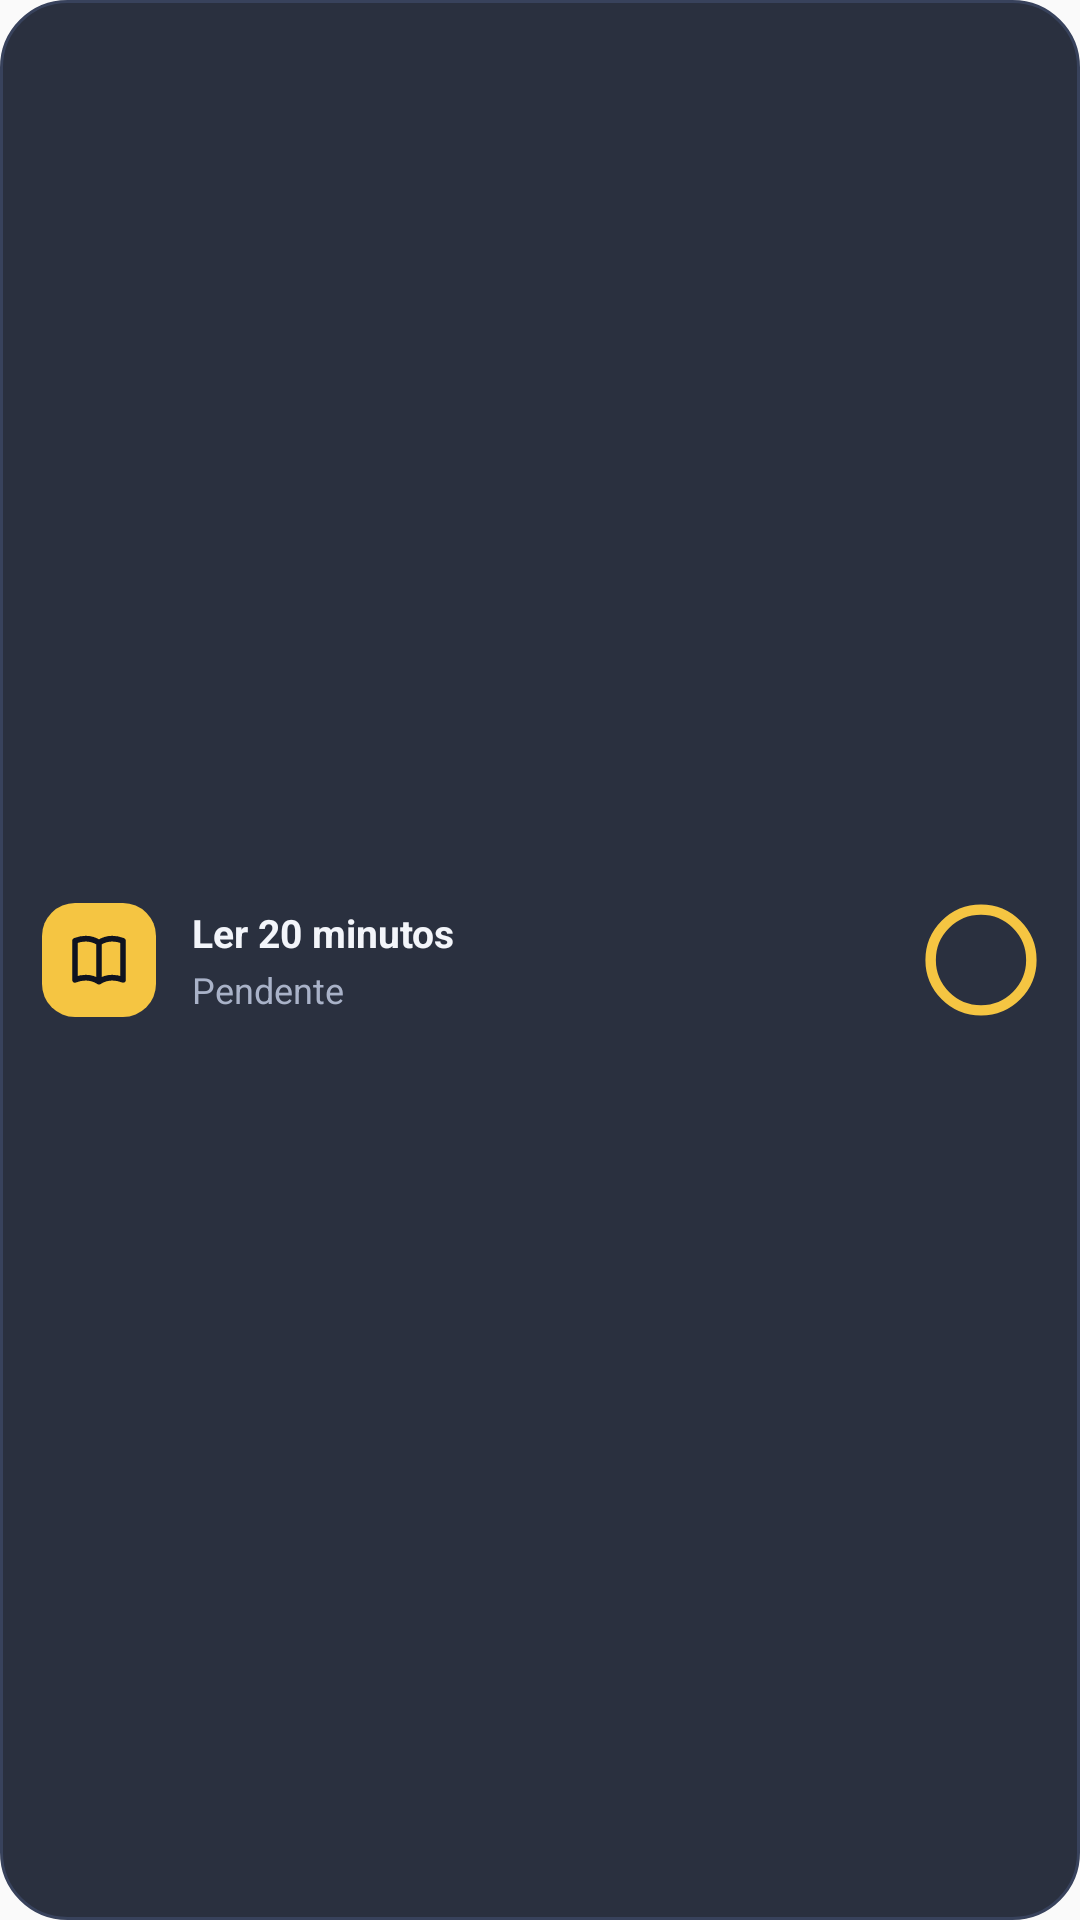

Point at icon controls on the screen. Image size 1080px x 1920px, points as (x,y).
tile book: (99,960)
